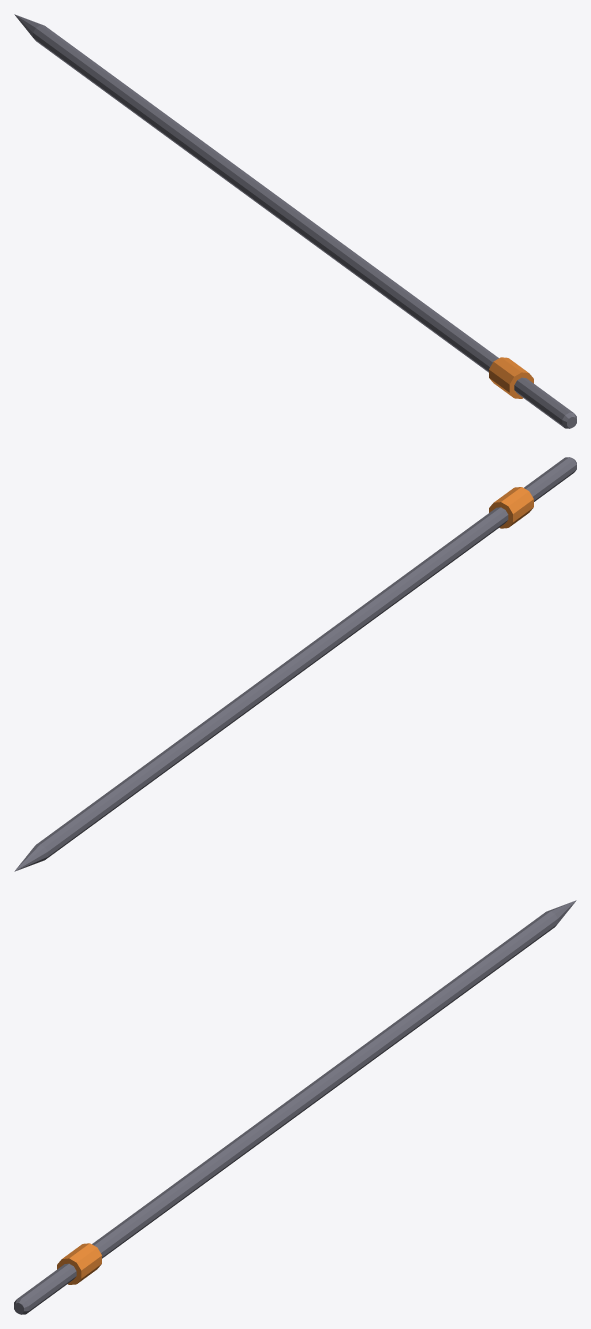
File: Spear_03.fbx
The picture shows the model from 3 angles, top to bottom: view 1: azimuth 30°, elevation 25°; view 2: azimuth 150°, elevation 25°; view 3: azimuth 330°, elevation 25°; orthographic projection.
Parts seen in each view (by area): view 1: Spear_03; view 2: Spear_03; view 3: Spear_03.
Part boxes in pixels (x1=…): Spear_03: x1=14, y1=14, x2=576, y2=428; Spear_03: x1=14, y1=457, x2=576, y2=871; Spear_03: x1=14, y1=900, x2=576, y2=1314.
Bounding box in the file's own units: 6.51 × 6.84 × 259.
